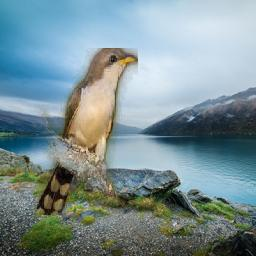Cuckoo: (34, 49, 138, 216)
